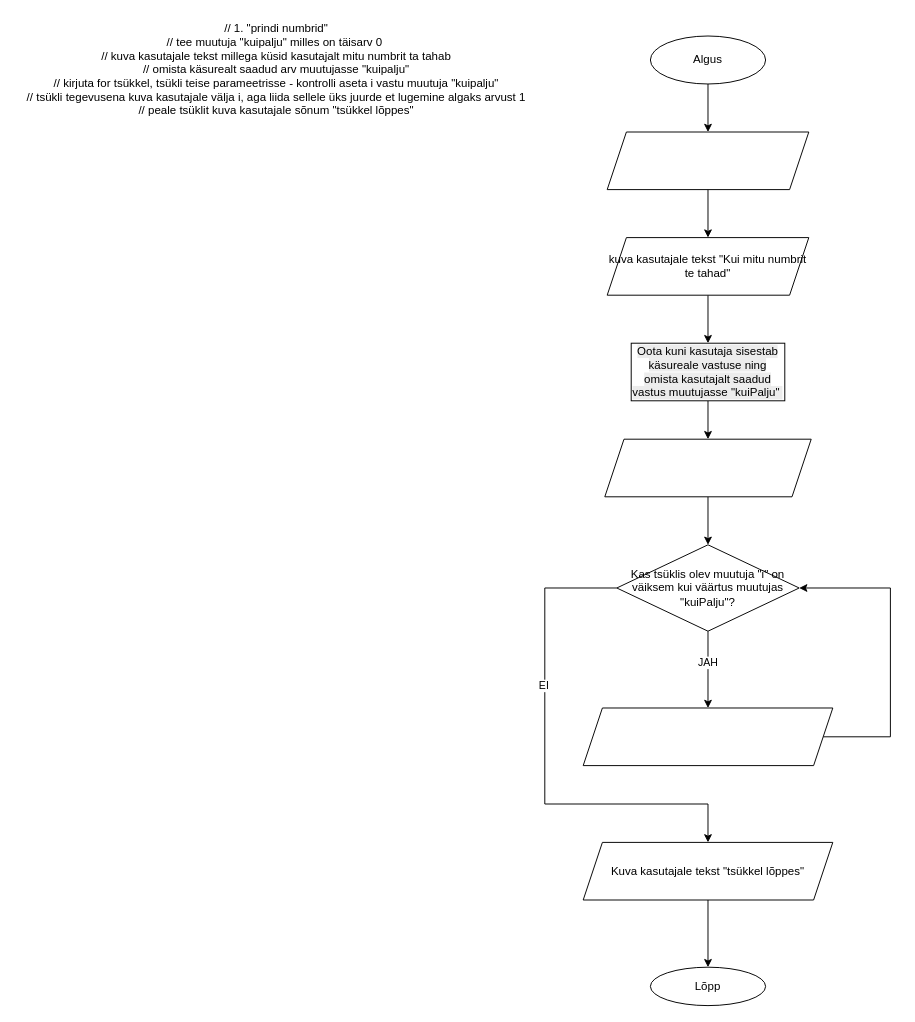
This 915x1022 diagram has some shape labels left out. The shapes that lost their labels are listed below. From the top down, each one's centre as x and y in pixels, then its label:
point (707, 160): Tekita täisarvutüüpi muutuja "kuiPalju" kuhu omistad väärtuse 0
point (707, 467): Seadista for-tsükkel, millel on tsükli töö jaoks muutuja "i"
point (707, 736): Kuva kasutajale välja muutuja "i" väärtus kujul millele liidad ühe juurde: i+1
